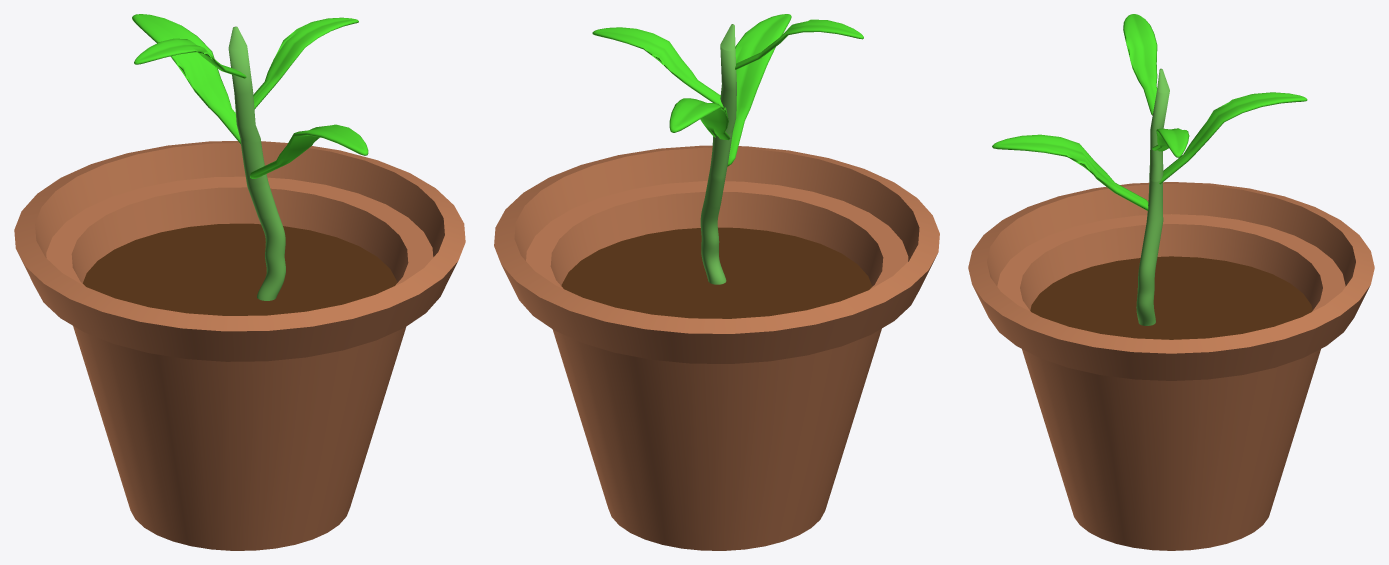
The model's file is notSoYoungPlant.fbx.
3 renders of one model, left to right at view 1: azimuth 30°, elevation 25°; view 2: azimuth 150°, elevation 25°; view 3: azimuth 270°, elevation 25°, orthographic. The views are drawn at different scales.
Parts seen in each view (by area): view 1: Plant Pot, Plane, Cylinder.001, Plane.001; view 2: Plant Pot, Plane, Cylinder.001, Plane.001; view 3: Plant Pot, Plane, Cylinder.001, Plane.001.
Part boxes in pixels (x1,y1,x2,y2): Plant Pot: (14,141,465,550); Plane: (132,14,358,143); Cylinder.001: (228,26,285,300); Plane.001: (250,124,368,178); Plant Pot: (494,145,939,550); Plane: (592,19,863,140); Cylinder.001: (700,24,736,284); Plane.001: (727,14,791,166); Plant Pot: (968,182,1374,550); Plane: (1123,14,1307,184); Cylinder.001: (1136,68,1169,325); Plane.001: (992,134,1148,210).
Size of the model in its own units: 535 by 651 by 535.
